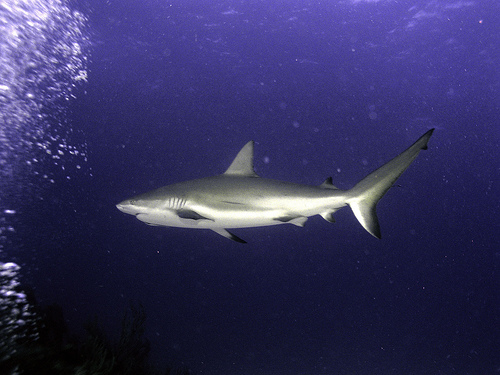shark: (98, 116, 448, 257)
